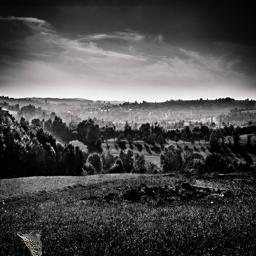Sparrow: (18, 230, 43, 256)
